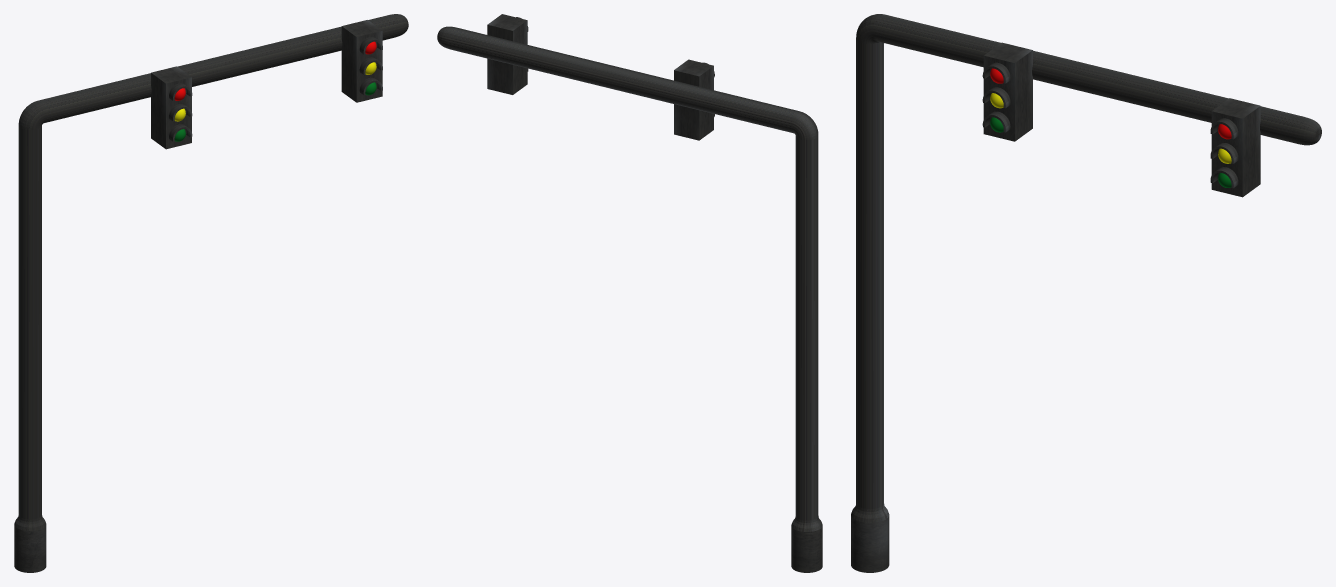
File: traffic light .fbx
The picture shows the model from 3 angles, left to right: view 1: azimuth 30°, elevation 25°; view 2: azimuth 150°, elevation 25°; view 3: azimuth 330°, elevation 25°; orthographic projection. The views are drawn at different scales.
Parts seen in each view (by area): view 1: pasted__pasted__pCylinder4; view 2: pasted__pasted__pCylinder4; view 3: pasted__pasted__pCylinder4.
Part boxes in pixels (x1,y1,x2,y2): pasted__pasted__pCylinder4: [14, 14, 408, 572]; pasted__pasted__pCylinder4: [437, 14, 822, 572]; pasted__pasted__pCylinder4: [851, 14, 1321, 572].
Size of the model in its own units: 28.01 by 32.24 by 4.
Materials: 4 (1 with a texture image).
